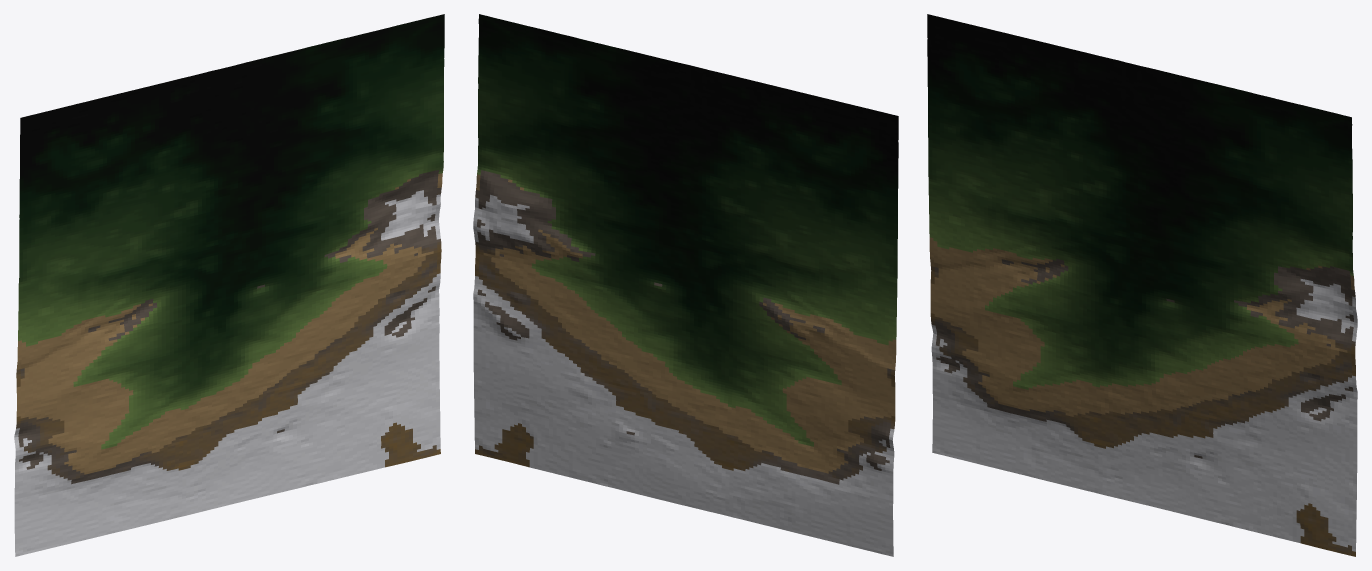
File: lqv_lowpoly_terrain.glb
3 views of the same model, side by side, from view 1: azimuth 30°, elevation 25°; view 2: azimuth 150°, elevation 25°; view 3: azimuth 330°, elevation 25° (orthographic).
Parts seen in each view (by area): view 1: LQV_Terrain; view 2: LQV_Terrain; view 3: LQV_Terrain.
Boxes of the visible parts, left/top/right/bottom form: LQV_Terrain: left=14, top=14, right=444, bottom=556; LQV_Terrain: left=473, top=14, right=898, bottom=556; LQV_Terrain: left=927, top=14, right=1357, bottom=556.
Size of the model in its own units: 19977 by 19897 by 552.
